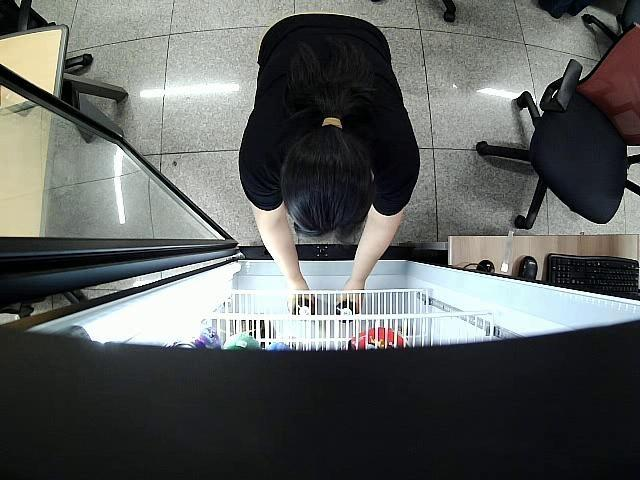19_17cha: (334, 300, 356, 322), (292, 296, 316, 316)
